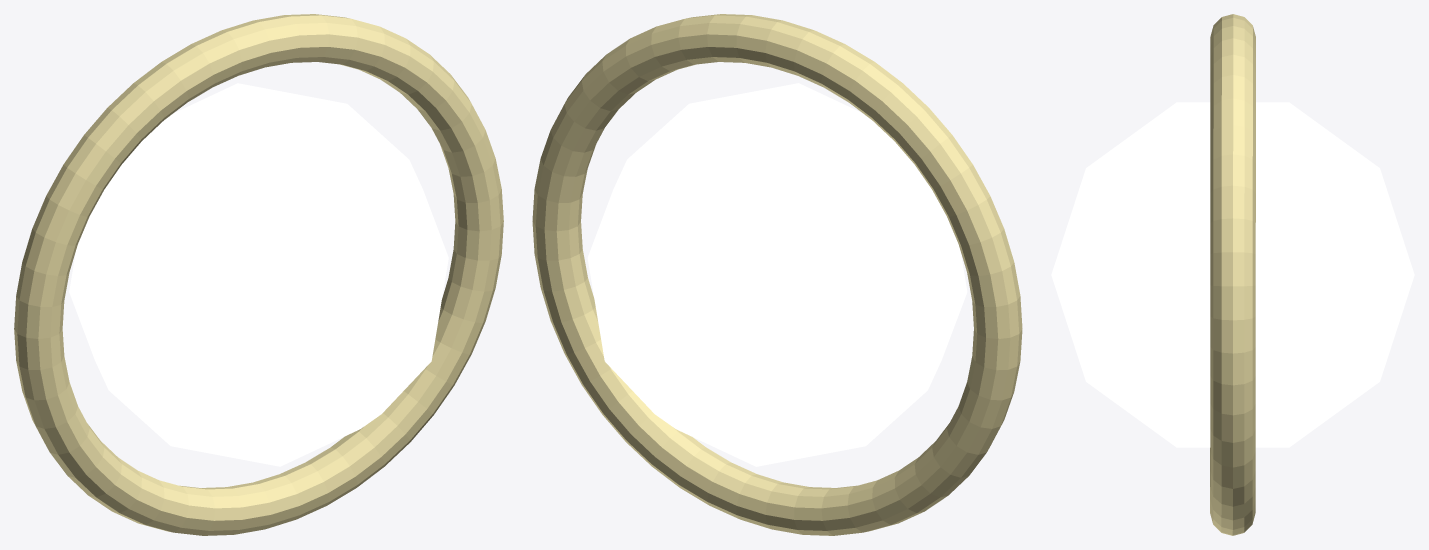
The model's file is manna_pickup.glb.
The picture shows the model from 3 angles, left to right: view 1: azimuth 30°, elevation 25°; view 2: azimuth 150°, elevation 25°; view 3: azimuth 270°, elevation 25°; orthographic projection. The views are drawn at different scales.
Parts seen in each view (by area): view 1: Core, Torus; view 2: Core, Torus; view 3: Core, Torus.
Part boxes in pixels (x1=…): Core: x1=69, y1=83, x2=448, y2=466; Torus: x1=14, y1=14, x2=503, y2=535; Core: x1=587, y1=83, x2=967, y2=466; Torus: x1=532, y1=14, x2=1022, y2=535; Core: x1=1051, y1=102, x2=1414, y2=447; Torus: x1=1210, y1=14, x2=1255, y2=535.
Bounding box in the file's own units: 0.92 × 0.92 × 0.64.
